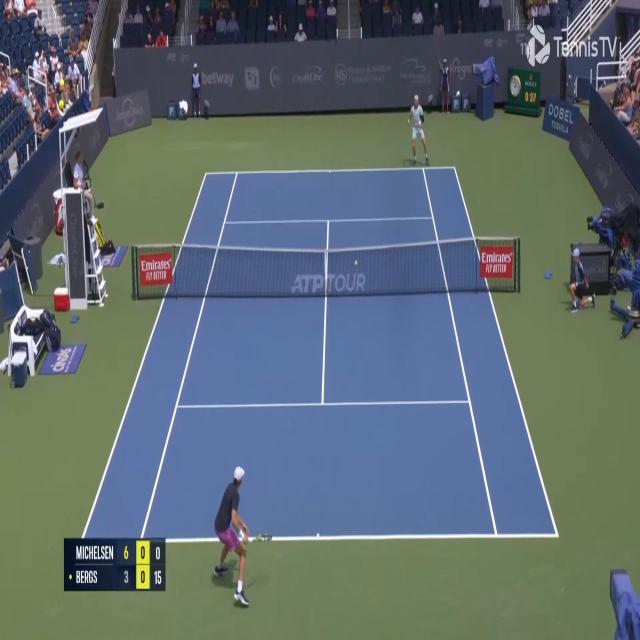tennis-player: (209, 461, 273, 608), (407, 92, 429, 165)
